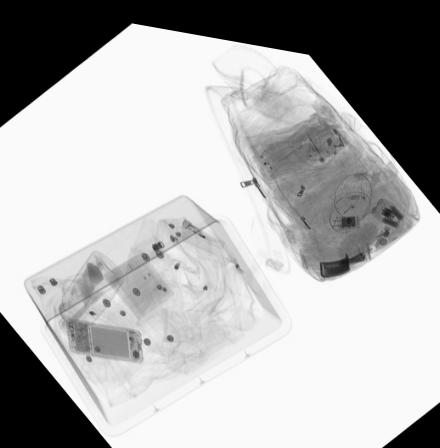Lighter: (180, 211, 224, 242)
